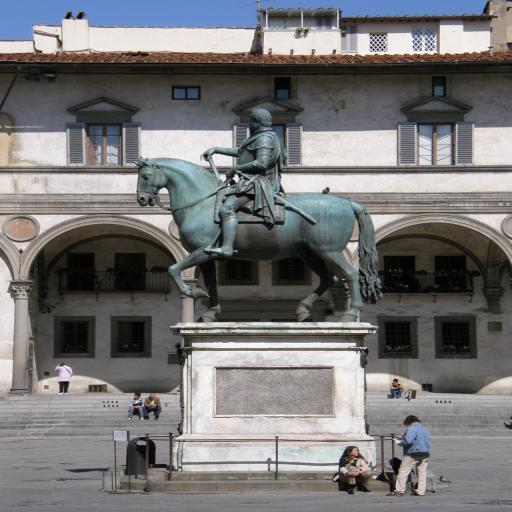horse: (135, 155, 384, 325)
